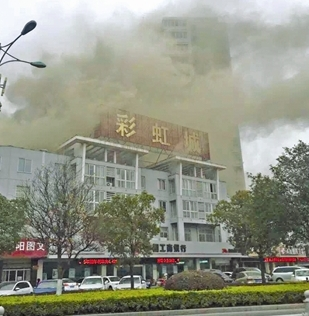smoke: (63, 35, 309, 117)
